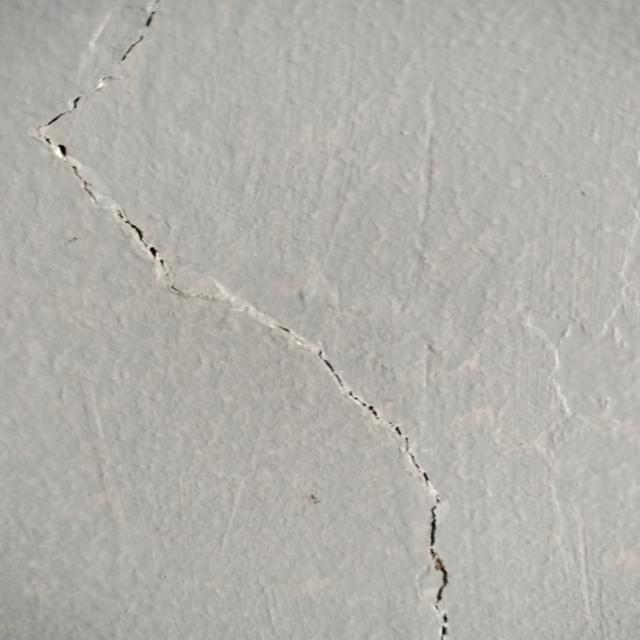Crack: (25, 0, 459, 640)
